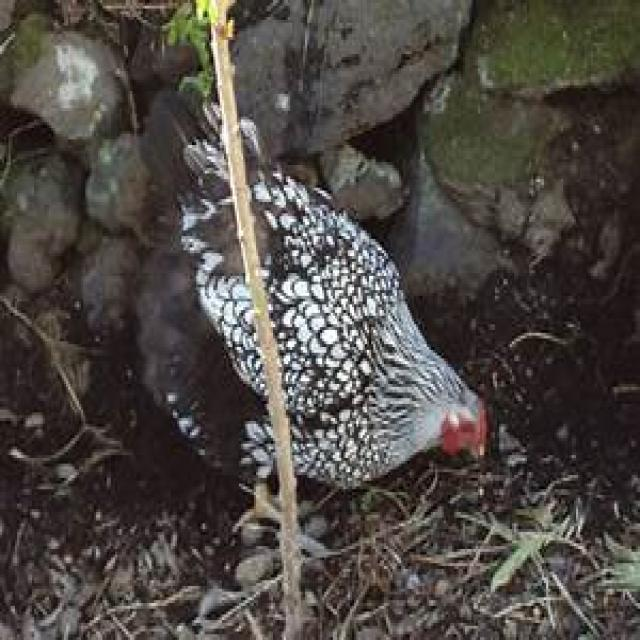animal: (175, 97, 488, 495)
